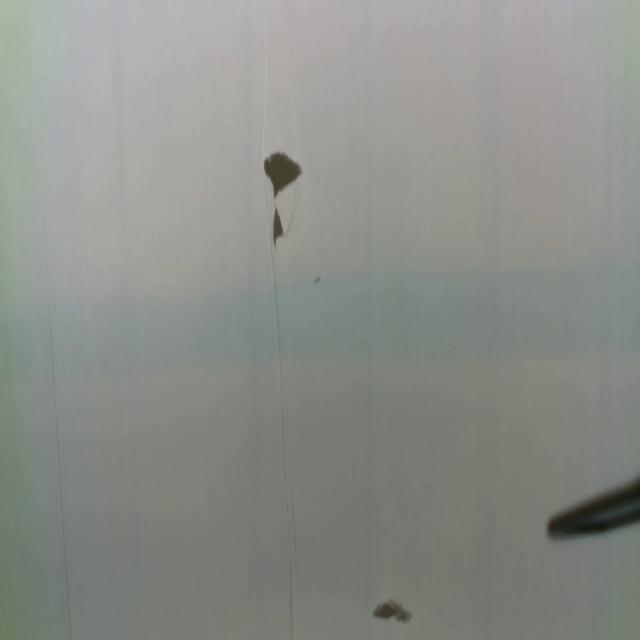color bleeding: (1, 256, 640, 391)
hole: (264, 150, 303, 200), (372, 595, 416, 632), (272, 207, 284, 247), (314, 275, 324, 286)
